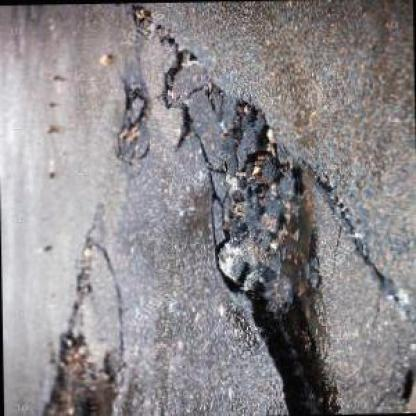pothole: (122, 0, 415, 415), (36, 324, 123, 414), (111, 78, 152, 164)
